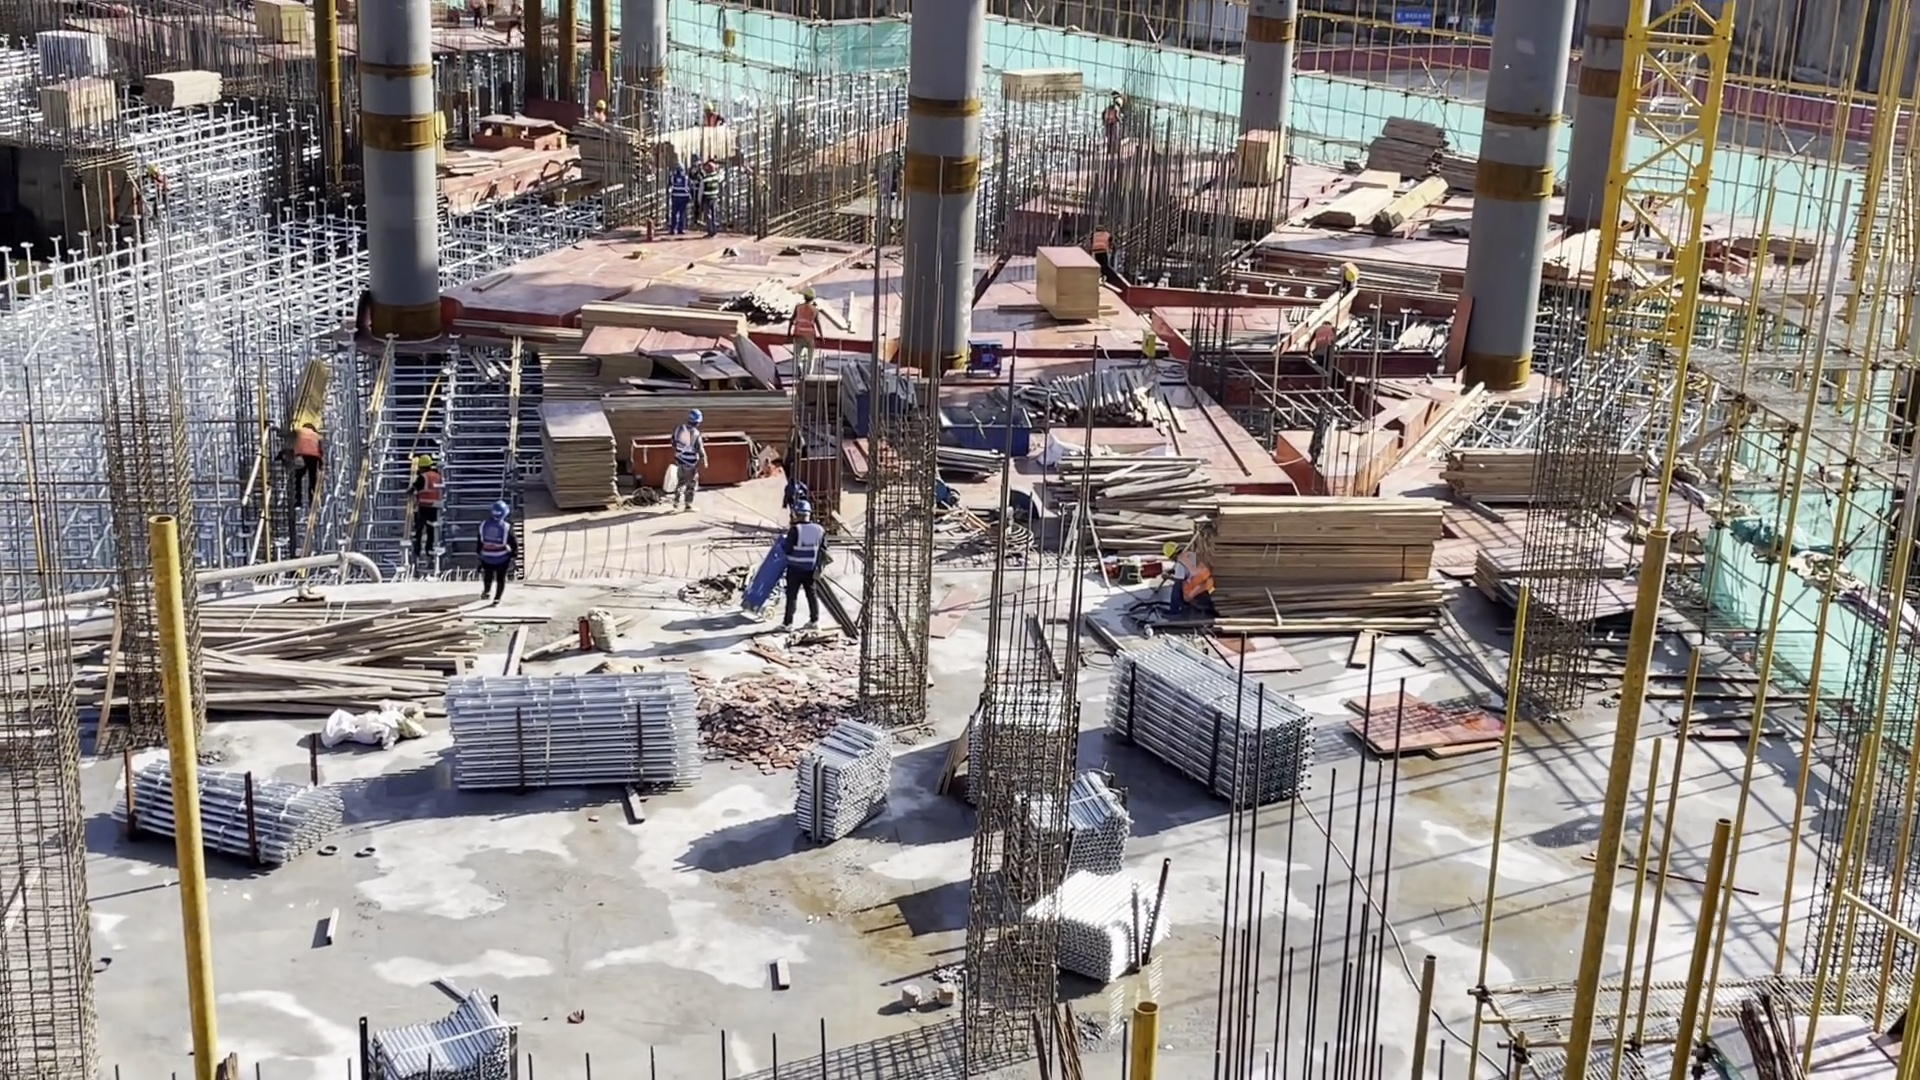board: (541, 404, 615, 506), (1034, 244, 1096, 321), (587, 326, 657, 382), (1478, 547, 1526, 606)
ebox: (1140, 330, 1155, 359)
helmet: (492, 501, 509, 519), (1162, 541, 1178, 559), (793, 501, 812, 516), (687, 409, 702, 426), (418, 455, 433, 468), (1343, 269, 1357, 282), (803, 289, 817, 299), (596, 99, 606, 110), (702, 102, 712, 109), (704, 163, 715, 172), (675, 162, 683, 170)
person: (789, 497, 820, 635), (1162, 543, 1217, 619), (285, 418, 325, 504), (479, 500, 509, 606), (675, 410, 704, 510), (415, 456, 442, 560), (792, 288, 820, 377), (667, 166, 691, 236), (699, 160, 719, 238), (1306, 319, 1336, 369), (1088, 226, 1112, 284), (696, 102, 723, 127)
scaffold: (1115, 639, 1311, 808), (446, 677, 702, 791), (136, 760, 339, 868), (1031, 876, 1166, 984), (375, 1001, 512, 1080), (801, 719, 888, 837), (1025, 776, 1128, 873)
vest: (1175, 553, 1211, 600), (790, 525, 816, 569), (477, 521, 507, 559), (674, 428, 701, 468), (293, 427, 319, 461), (795, 305, 815, 341), (418, 473, 437, 506), (1313, 325, 1333, 354), (1092, 232, 1109, 254), (671, 176, 689, 196)
wood: (1215, 496, 1436, 614), (586, 303, 746, 347), (1442, 447, 1539, 504), (1382, 177, 1443, 227), (1323, 190, 1387, 225)
